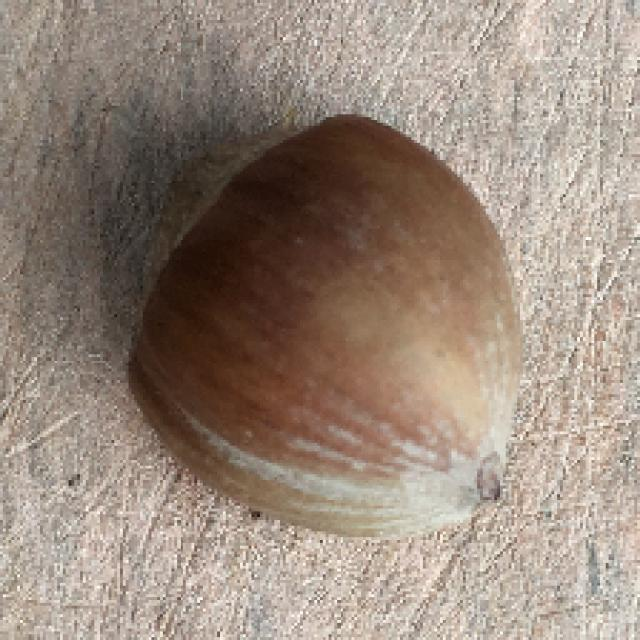DamagedHazelnut: (122, 116, 521, 539)
